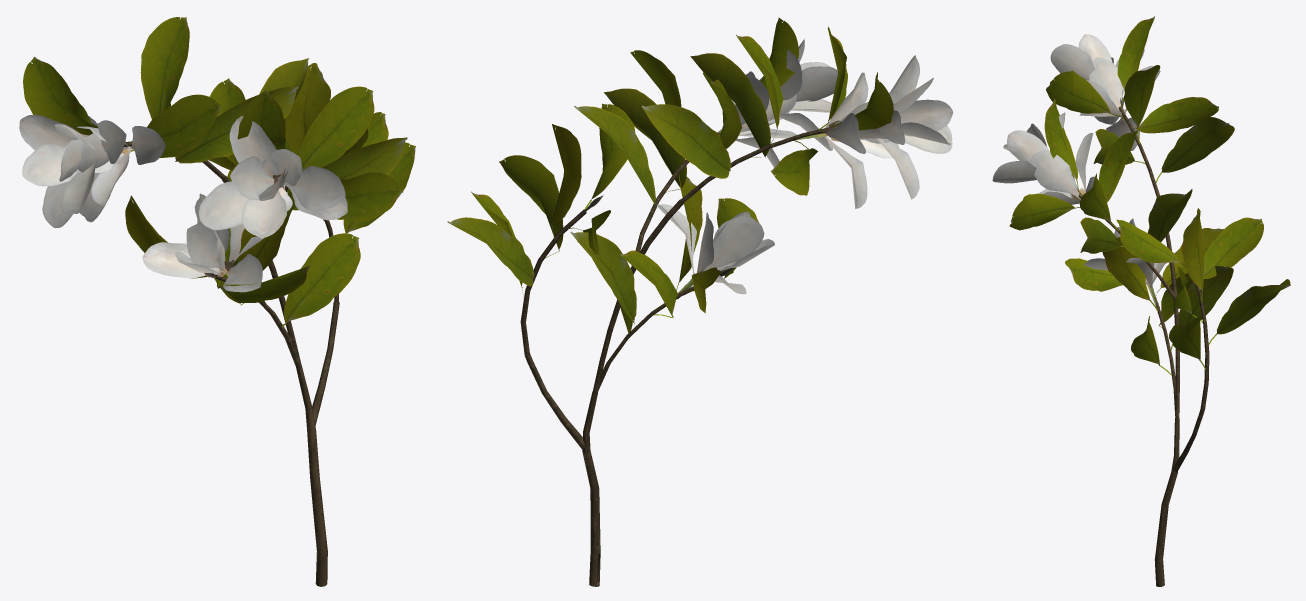
3 renders of one model, left to right at view 1: azimuth 30°, elevation 25°; view 2: azimuth 150°, elevation 25°; view 3: azimuth 270°, elevation 25°, orthographic. The views are drawn at different scales.
Visible parts, largest first — view 1: SY-含笑; view 2: SY-含笑; view 3: SY-含笑.
Boxes of the visible parts, x1,y1,x2,y2 form: SY-含笑: [19, 17, 415, 586]; SY-含笑: [447, 17, 953, 586]; SY-含笑: [992, 16, 1290, 586].
Bounding box in the file's own units: 0.2672 × 0.2014 × 0.3435.
